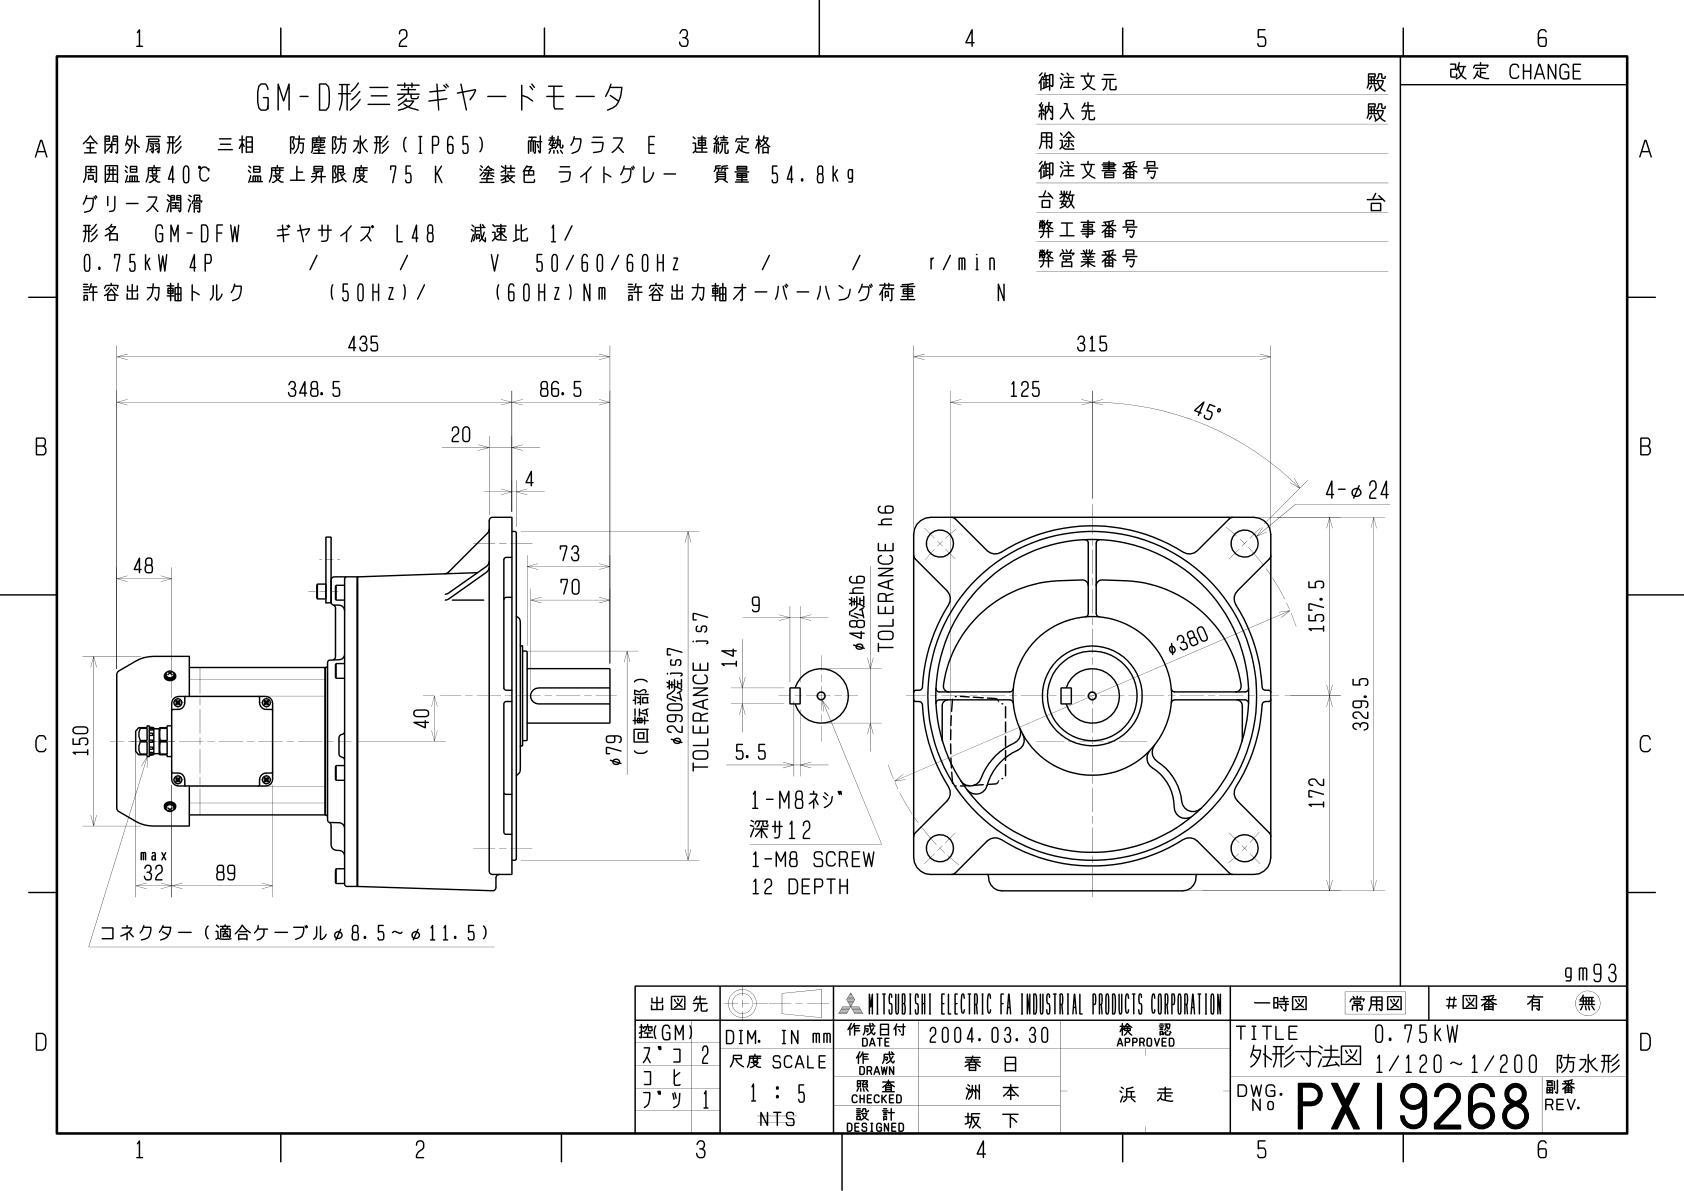GM_D_IP65_三相_フランジ: (1, 1, 1669, 1173)
